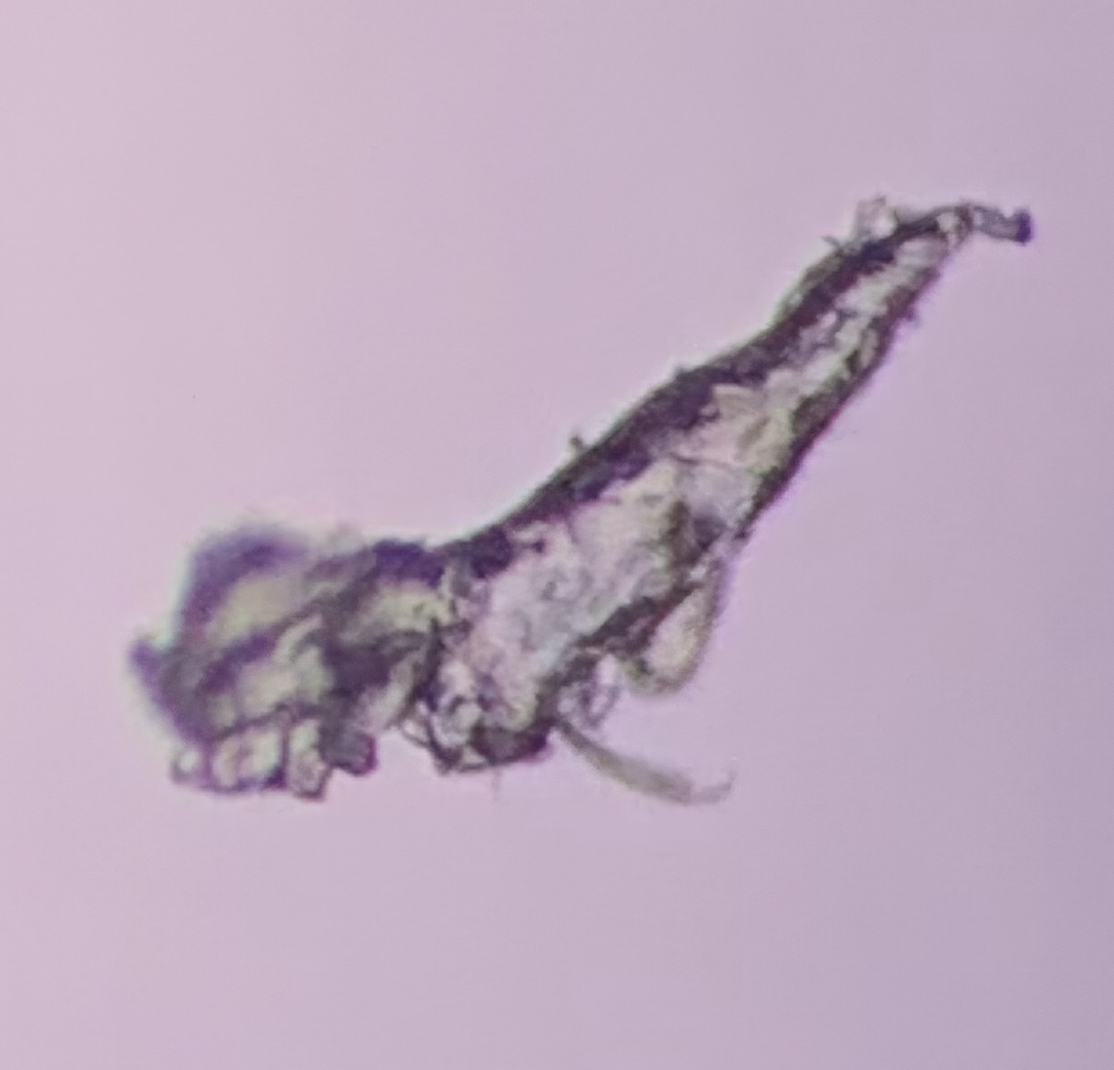microplastic: (126, 192, 1034, 806)
